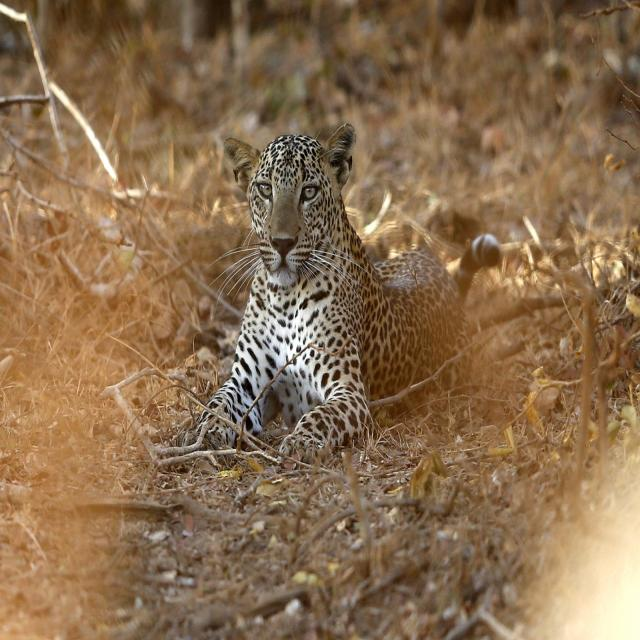Leopard: (199, 130, 504, 453)
